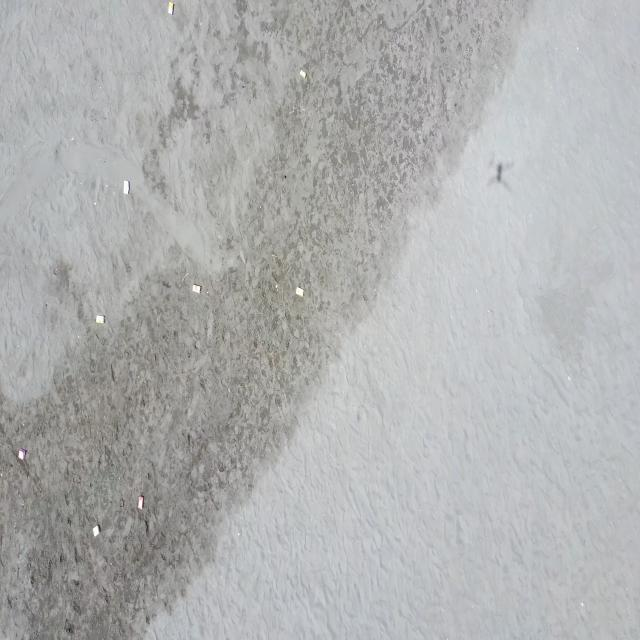Garbage: (18, 447, 27, 460), (91, 524, 100, 535), (136, 495, 143, 508), (299, 68, 306, 79), (192, 283, 200, 292), (167, 2, 173, 13), (123, 180, 128, 193), (96, 315, 104, 323), (296, 287, 303, 296)
